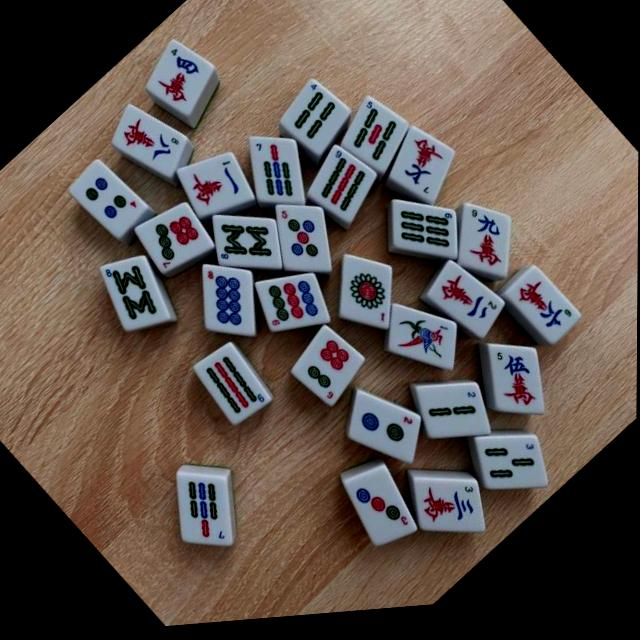sb1: (390, 309, 457, 377)
sb2: (415, 391, 492, 445)
sb3: (476, 444, 549, 497)
sb4: (278, 81, 352, 162)
sb5: (341, 101, 409, 180)
sb6: (392, 205, 457, 266)
sb7: (176, 474, 233, 549), (250, 141, 306, 210)
sb8: (100, 257, 171, 333), (211, 217, 283, 272)
sb9: (192, 344, 273, 430), (307, 148, 378, 230)
sc1: (176, 156, 256, 221)
sc2: (427, 266, 506, 347)
sc3: (413, 484, 486, 540)
sc4: (145, 40, 214, 120)
sc5: (490, 352, 545, 422)
sc6: (505, 274, 583, 354)
sc7: (390, 129, 455, 212)
sc8: (112, 105, 188, 181)
sc9: (459, 210, 512, 286)
sd1: (341, 260, 392, 336)
sd2: (349, 395, 422, 470)
sd3: (344, 471, 419, 553)
sd4: (68, 159, 149, 242)
sd5: (276, 209, 332, 276)
sd6: (290, 329, 365, 411)
sd7: (133, 204, 215, 277)
sd8: (202, 266, 256, 340)
sd9: (254, 278, 330, 336)
